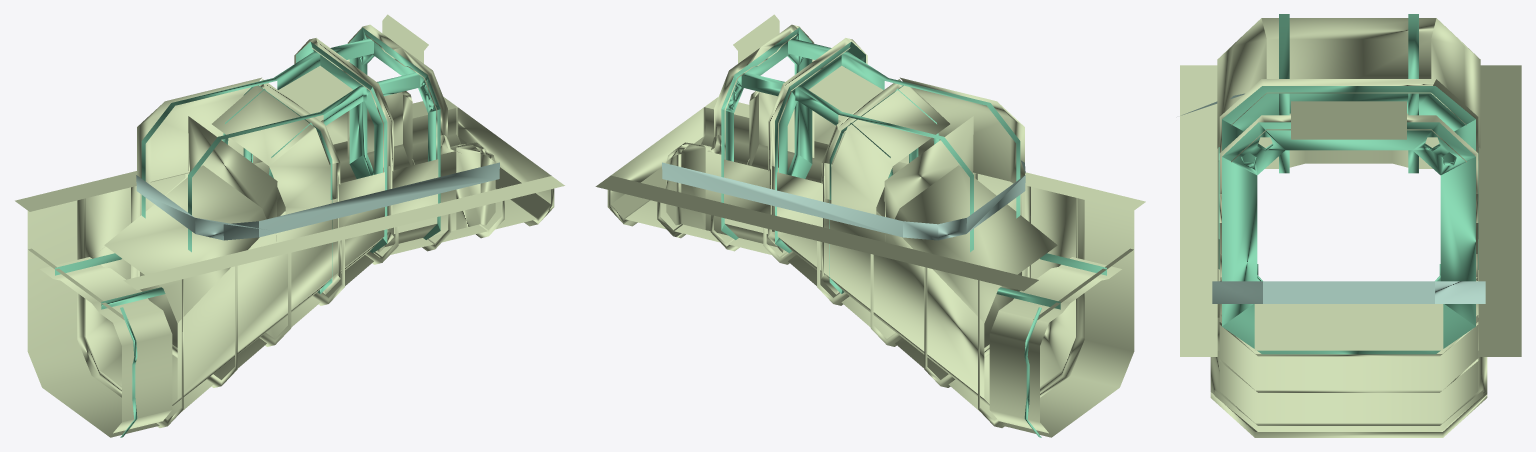
The model's file is ext_landingpad_floor_center_stair_16x08x10_a.glb.
3 renders of one model, left to right at view 1: azimuth 30°, elevation 25°; view 2: azimuth 150°, elevation 25°; view 3: azimuth 270°, elevation 25°, orthographic. The views are drawn at different scales.
Size of the model in its own units: 16 by 10.9 by 8.
